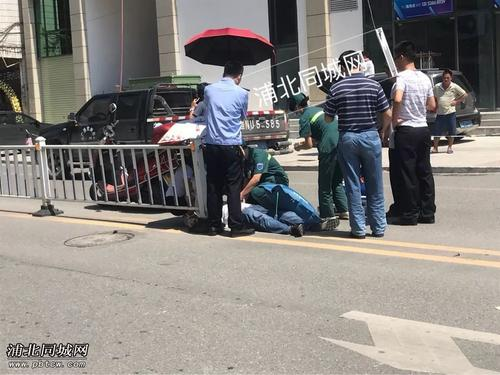fall: (224, 182, 343, 243)
